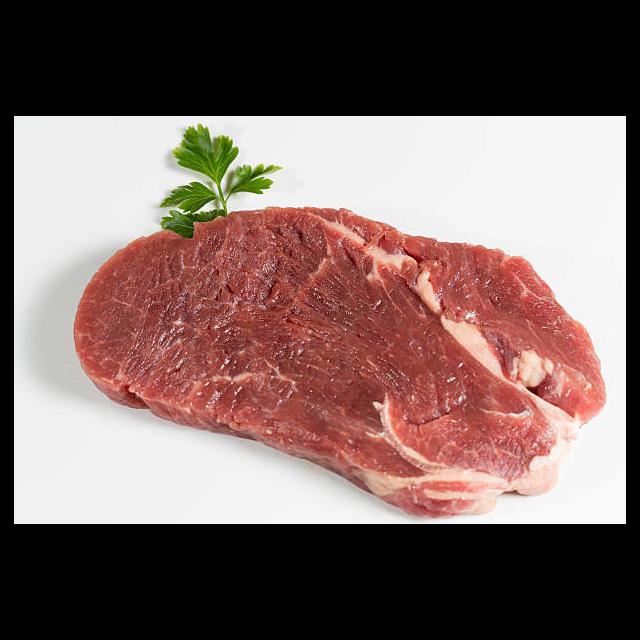beef: (72, 207, 608, 518)
